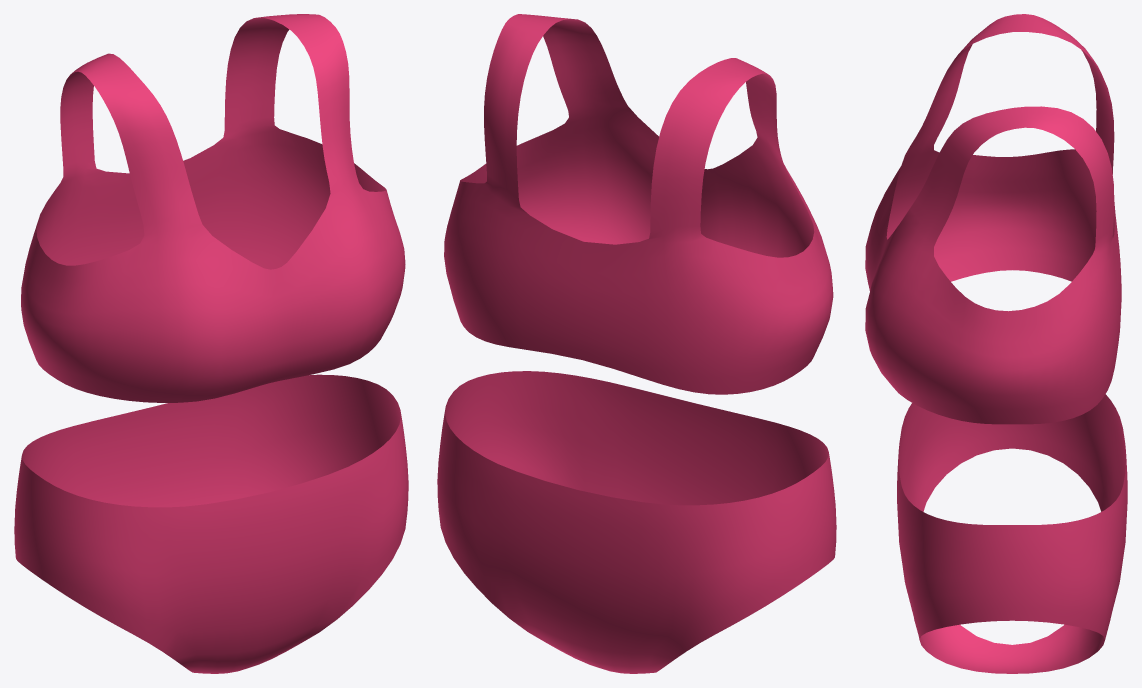
Rendered from bikini.glb.
3 renders of one model, left to right at view 1: azimuth 30°, elevation 25°; view 2: azimuth 150°, elevation 25°; view 3: azimuth 270°, elevation 25°, orthographic. The views are drawn at different scales.
Parts seen in each view (by area): view 1: Circle.1802; view 2: Circle.1802; view 3: Circle.1802.
Part boxes in pixels (x1,y1,x2,y2): Circle.1802: (14, 14, 408, 673); Circle.1802: (437, 14, 836, 673); Circle.1802: (865, 14, 1127, 673).
Bounding box in the file's own units: 1.31 × 2.11 × 0.8411.
1 material, 1 textured.
